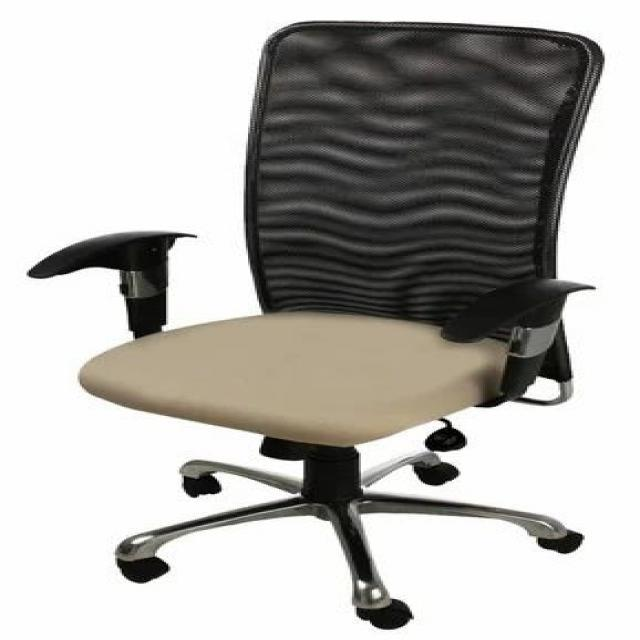chair: (30, 18, 614, 626)
